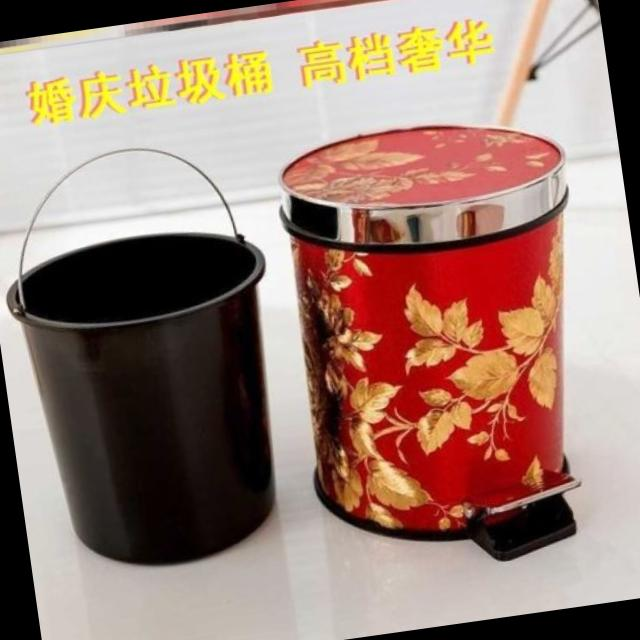dustbin: (253, 99, 634, 599)
